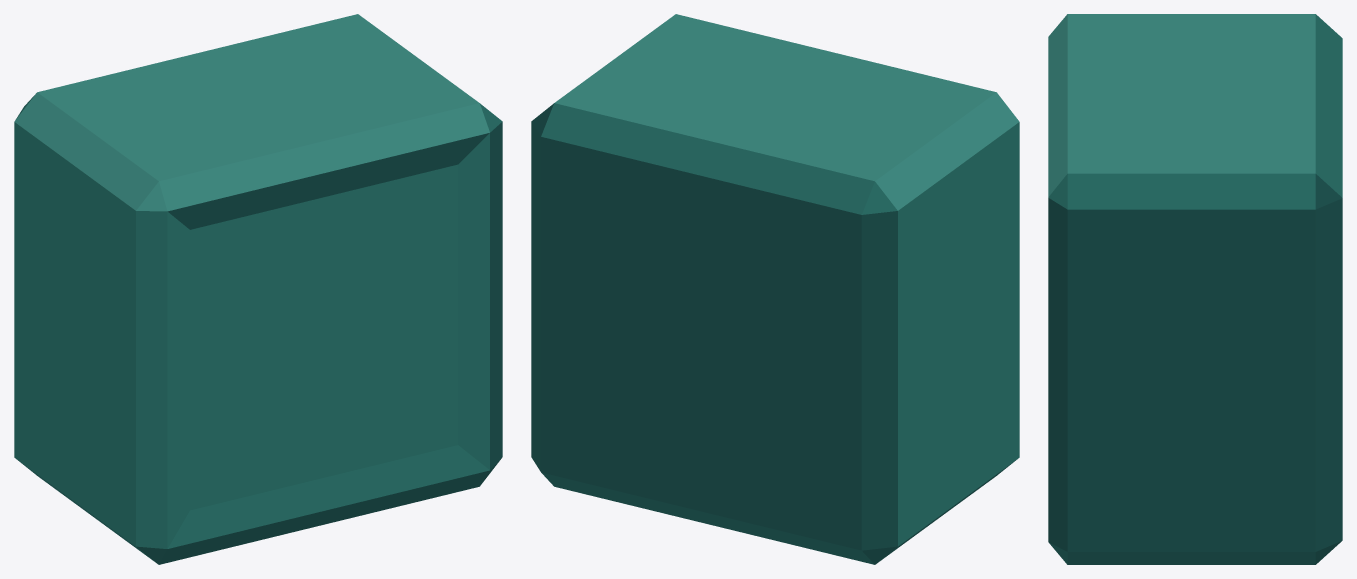
File: Terrain_Block1x1.gltf
3 views of the same model, side by side, from view 1: azimuth 30°, elevation 25°; view 2: azimuth 150°, elevation 25°; view 3: azimuth 270°, elevation 25° (orthographic). The views are drawn at different scales.
Visible parts, largest first — view 1: Terrain_Block1x1_baked; view 2: Terrain_Block1x1_baked; view 3: Terrain_Block1x1_baked.
Boxes of the visible parts, bbox=[...] form: Terrain_Block1x1_baked: bbox=[14, 14, 502, 564]; Terrain_Block1x1_baked: bbox=[531, 14, 1019, 564]; Terrain_Block1x1_baked: bbox=[1048, 14, 1342, 564].
Bounding box in the file's own units: 1 × 1 × 0.6822.
